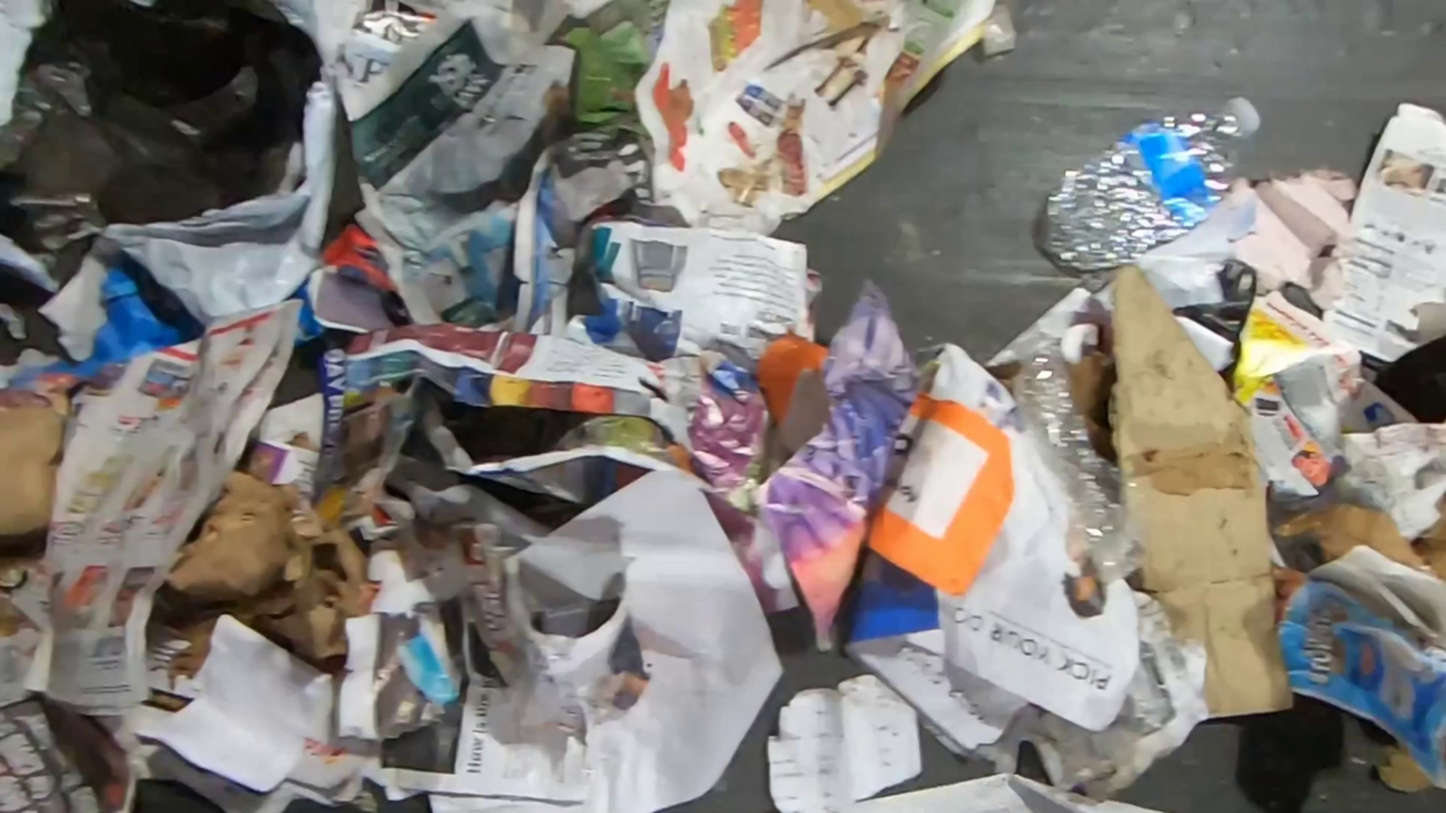cardboard: (1106, 264, 1303, 723), (161, 469, 383, 679), (1320, 102, 1446, 365), (0, 389, 75, 538)
plastic: (0, 0, 373, 390), (1034, 95, 1265, 273), (1011, 342, 1159, 586)
